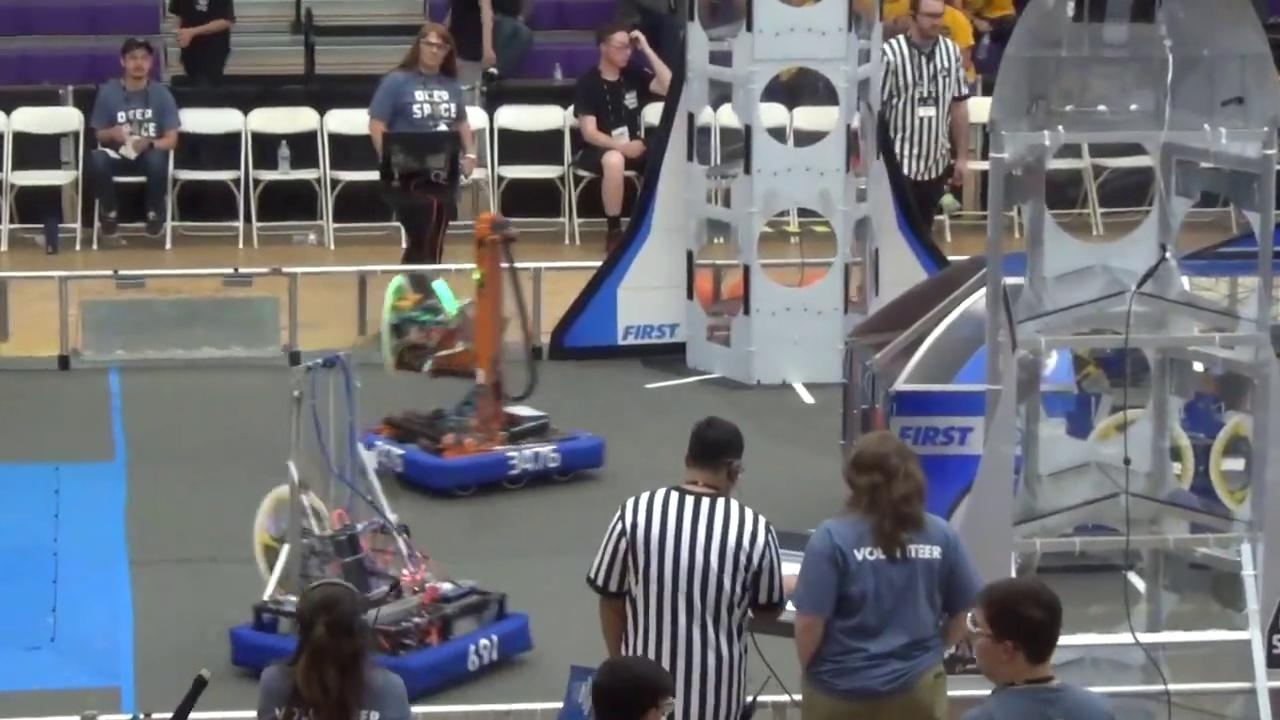robot: (223, 339, 533, 703), (351, 207, 609, 503)
